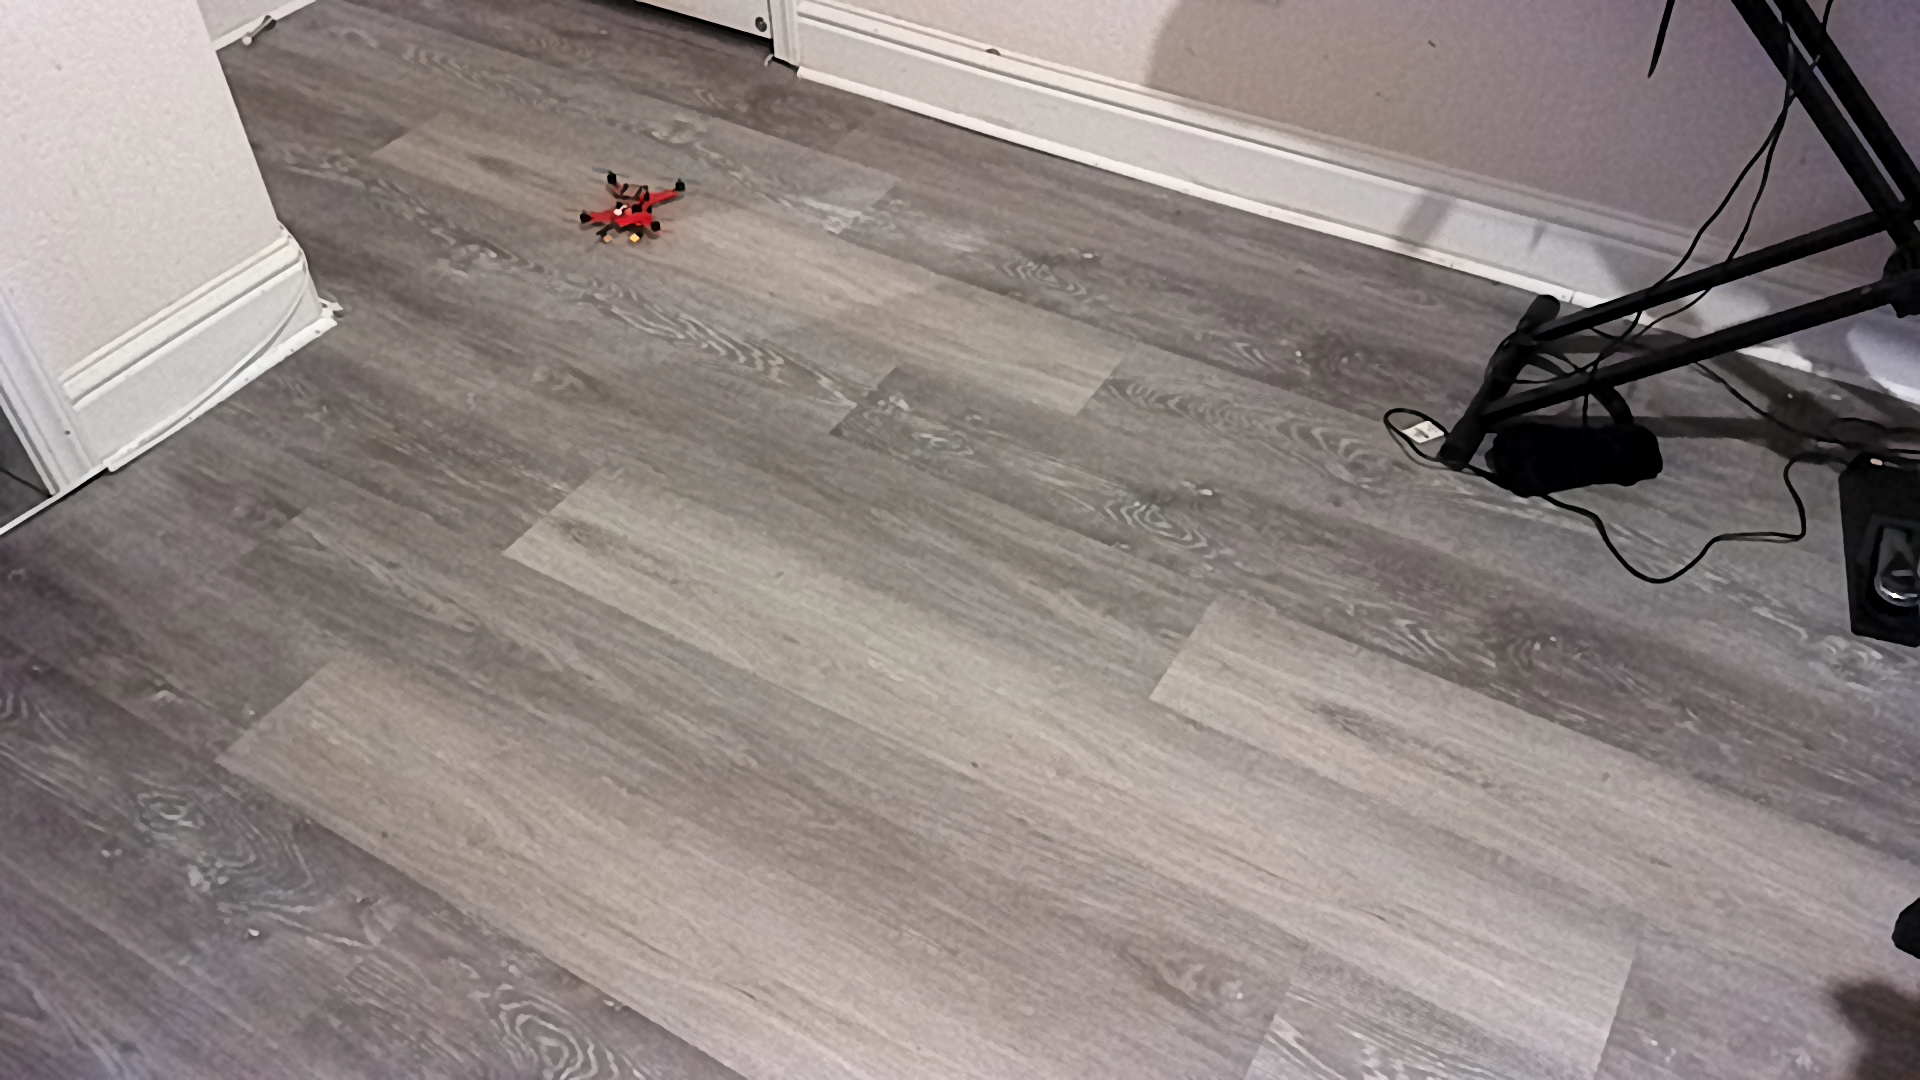drone: (566, 160, 708, 256)
